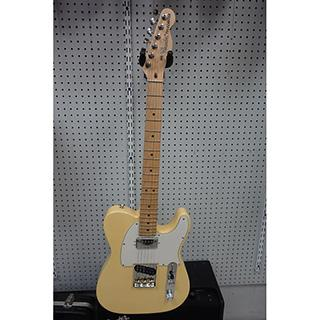Fender Telecaster: (94, 7, 190, 314)
SH: (133, 233, 163, 295)
